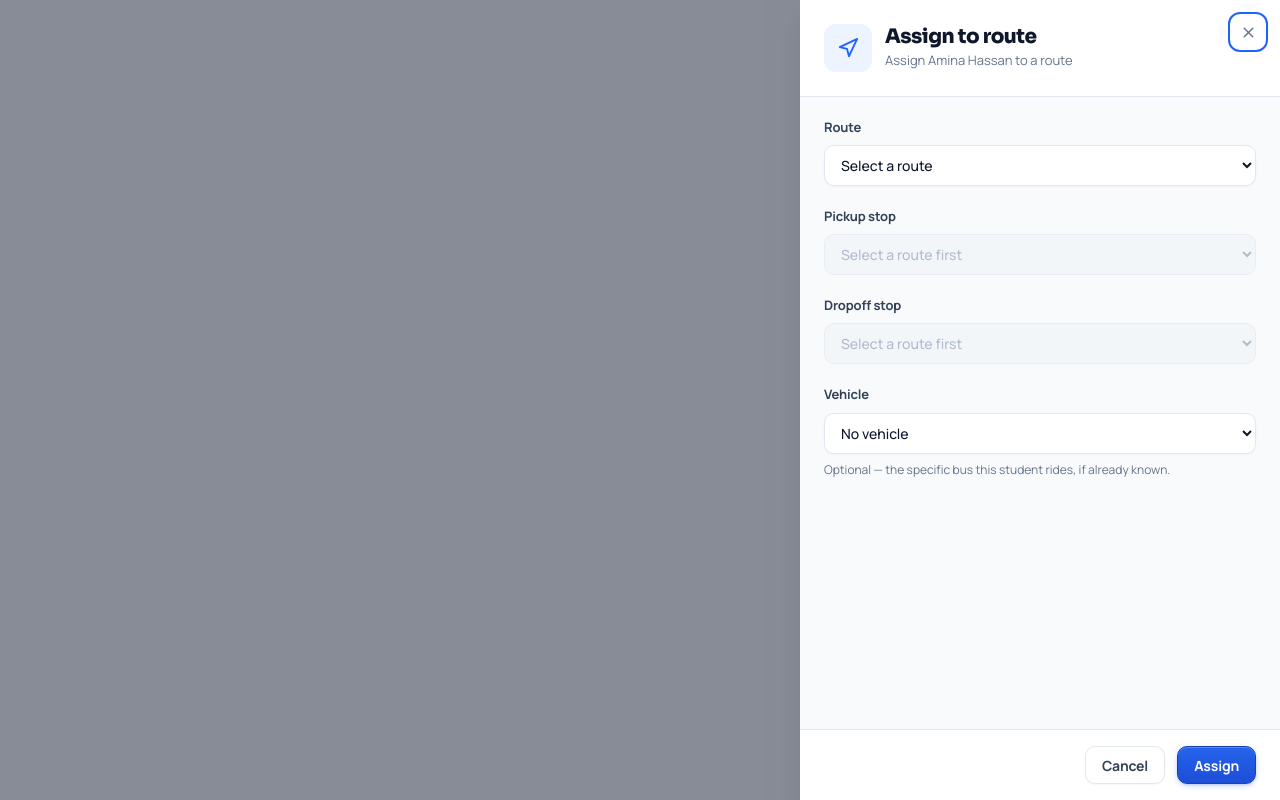
AssignStudentForm › shows a validation error and does not submit when no route is selected
Click the button "Assign": (1217, 765) [1177, 746, 1256, 784]
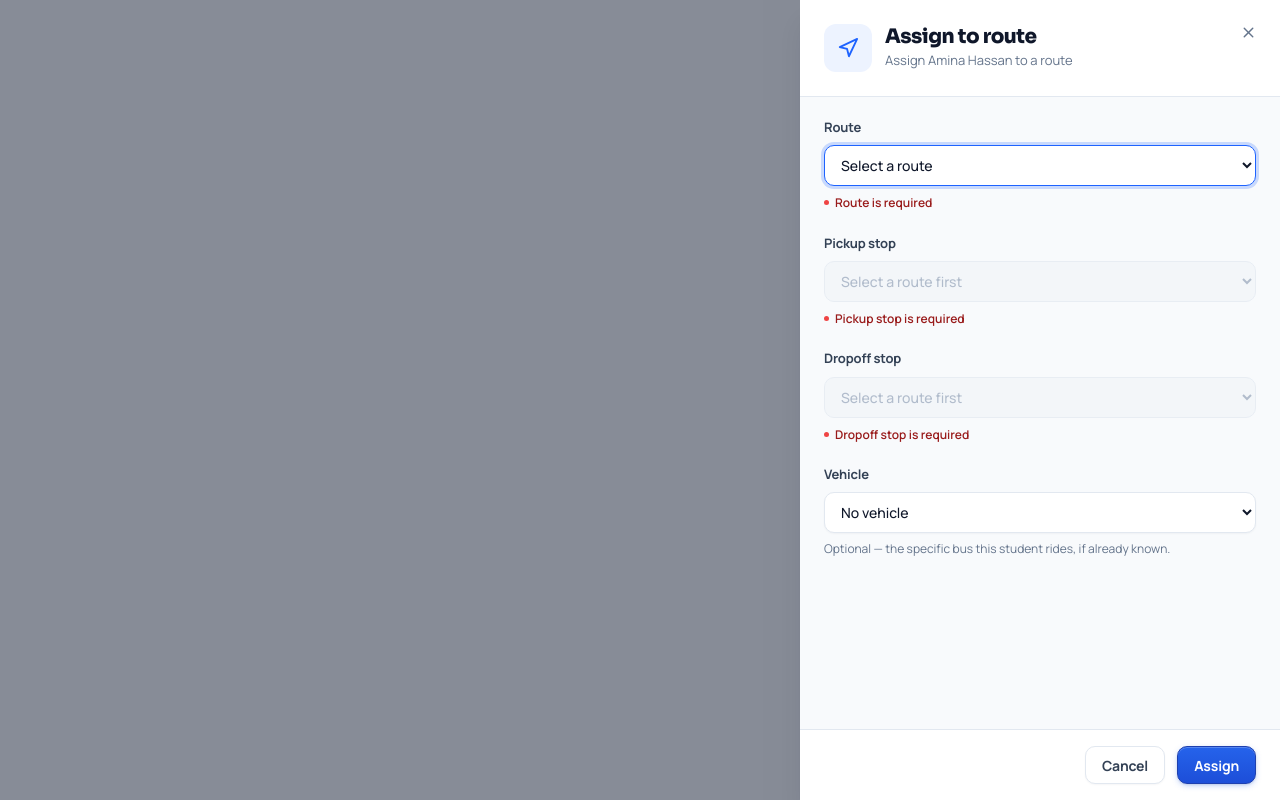
Result: the text "Route is required" is shown at [835, 194, 932, 211]
